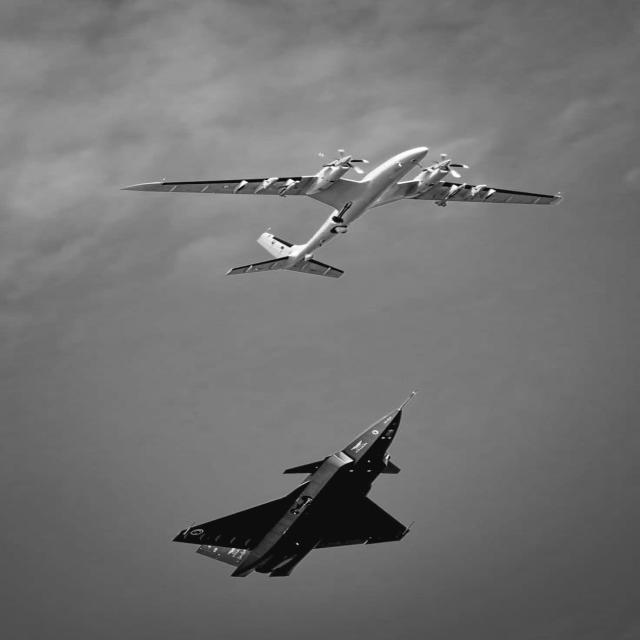iha: (60, 147, 560, 278)
